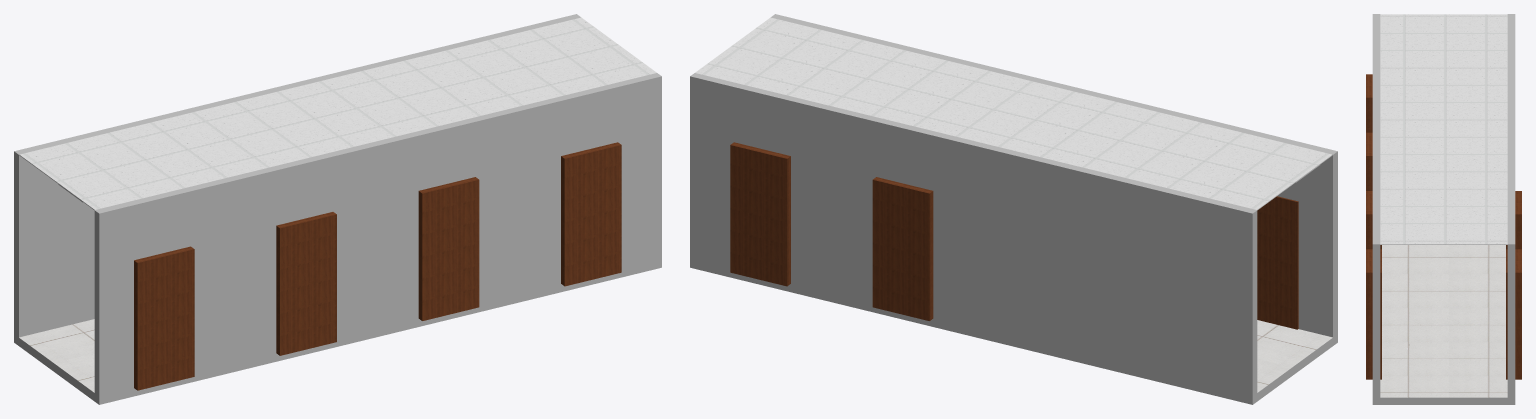
Rendered from hallway_v4_texture.fbx.
3 views of the same model, side by side, from view 1: azimuth 30°, elevation 25°; view 2: azimuth 150°, elevation 25°; view 3: azimuth 270°, elevation 25° (orthographic). The views are drawn at different scales.
Visible parts, largest first — view 1: hallway.029, roof_hallway.029, door_elevator.117; view 2: hallway.029, roof_hallway.029, door_elevator.118, door_elevator.117; view 3: roof_hallway.029, hallway.029, door_elevator.117, door_elevator.118.
Part boxes in pixels (left/top/right/bottom): hallway.029: left=14, top=14, right=661, bottom=404; roof_hallway.029: left=19, top=17, right=656, bottom=210; door_elevator.117: left=134, top=142, right=621, bottom=390; hallway.029: left=690, top=14, right=1337, bottom=404; roof_hallway.029: left=695, top=17, right=1332, bottom=210; door_elevator.118: left=730, top=142, right=933, bottom=320; door_elevator.117: left=1257, top=196, right=1298, bottom=329; roof_hallway.029: left=1380, top=14, right=1507, bottom=244; hallway.029: left=1372, top=14, right=1515, bottom=404; door_elevator.117: left=1366, top=74, right=1381, bottom=379; door_elevator.118: left=1506, top=191, right=1521, bottom=379.
Bounding box in the file's own units: 343 × 111 × 97.86.
